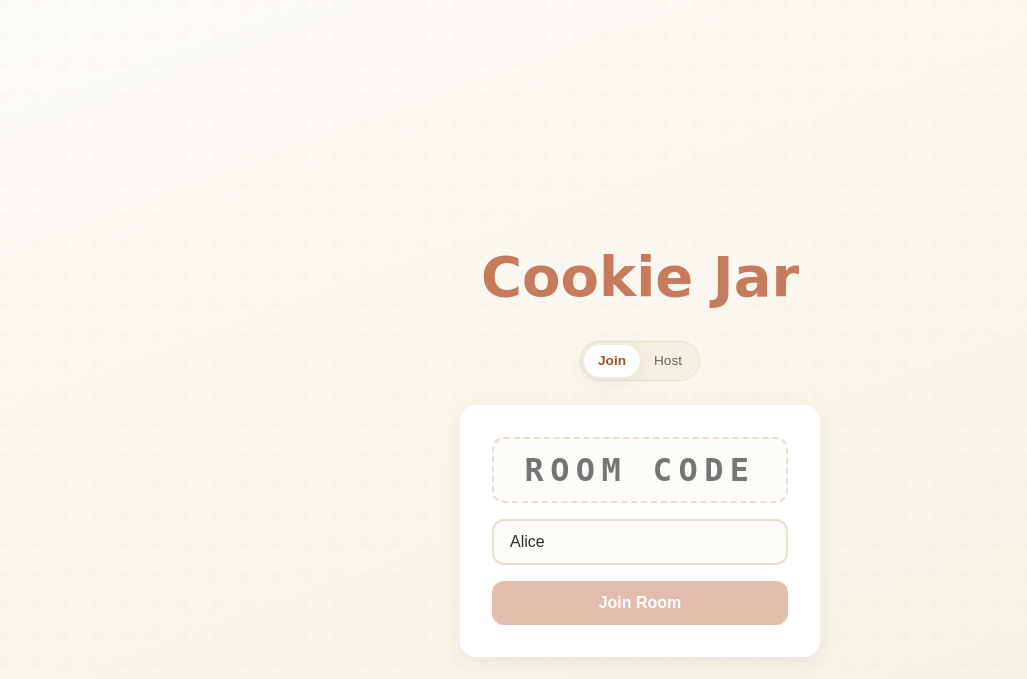
Test case: RoomCodeEntry landing tabs › shows CreateJar and template browser on the Host tab when authed
Click the radio button labelled "Host" at (668, 360), box [640,344,696,376]
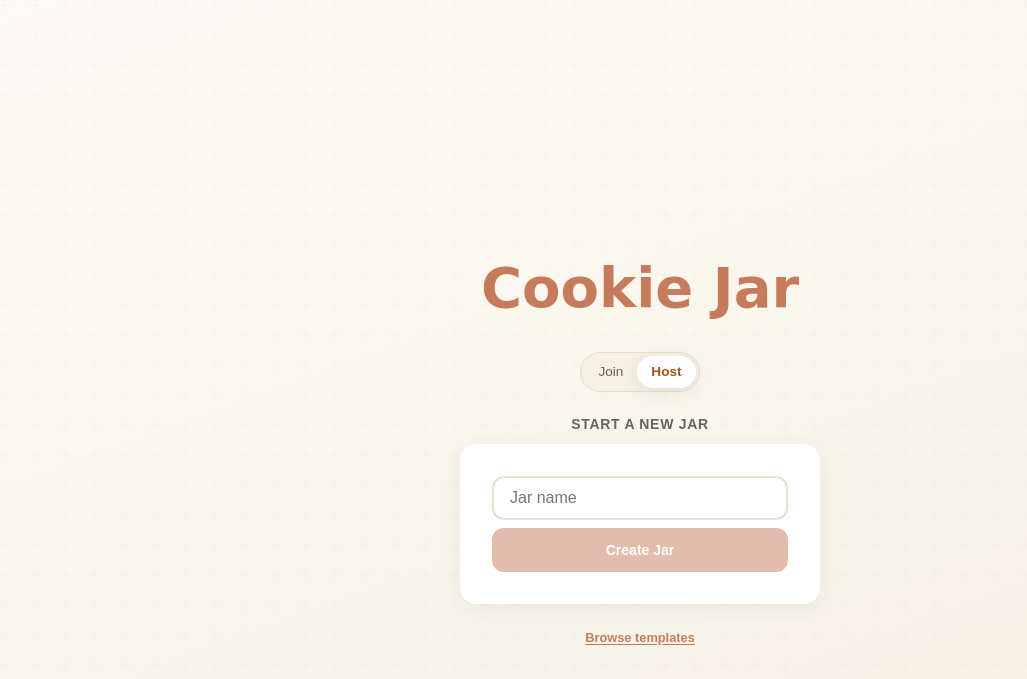
Now the field with placeholder "Jar name" is shown, box [492,476,788,520]
Now the button "Browse templates" is shown, box [585,630,695,644]
